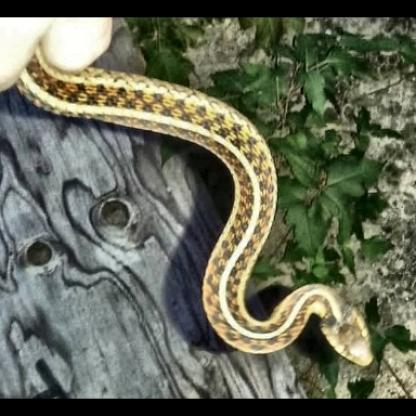Snake: (33, 46, 387, 376)
